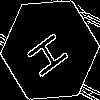H: (25, 25, 77, 80)
